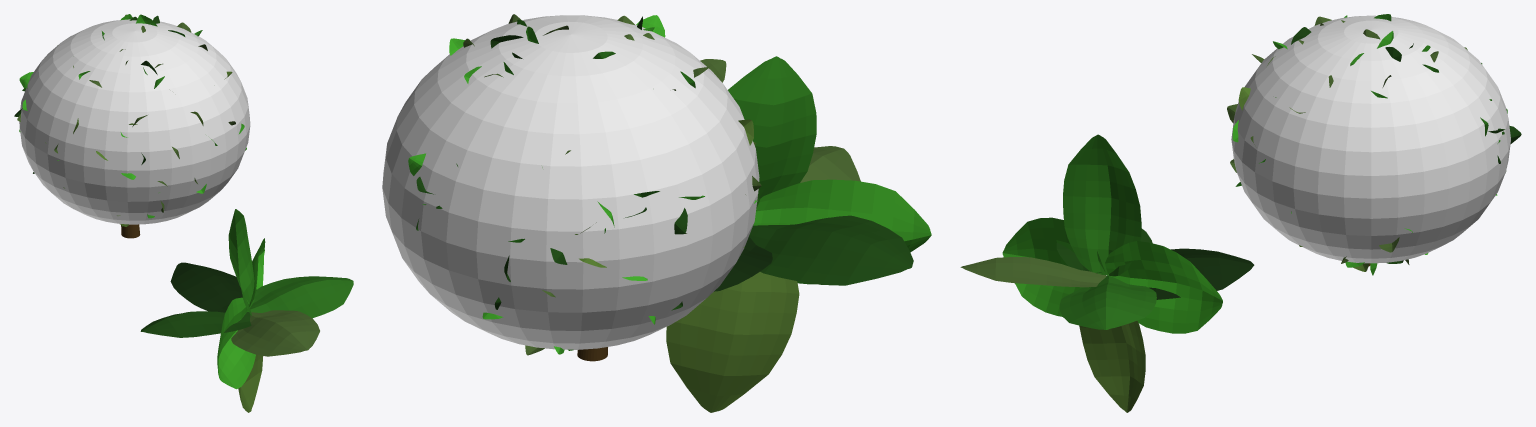
Rendered from Bush01.fbx.
The picture shows the model from 3 angles, left to right: view 1: azimuth 30°, elevation 25°; view 2: azimuth 150°, elevation 25°; view 3: azimuth 270°, elevation 25°; orthographic projection. The views are drawn at different scales.
Parts seen in each view (by area): view 1: Bush, feuille01; view 2: Bush, feuille01; view 3: Bush, feuille01.
Boxes of the visible parts, x1,y1,x2,y2 form: Bush: (19, 19, 250, 224); feuille01: (140, 209, 353, 412); Bush: (382, 15, 759, 349); feuille01: (666, 56, 931, 412); Bush: (1231, 15, 1510, 263); feuille01: (960, 134, 1254, 412).
Size of the model in its own units: 142 by 204 by 272.
